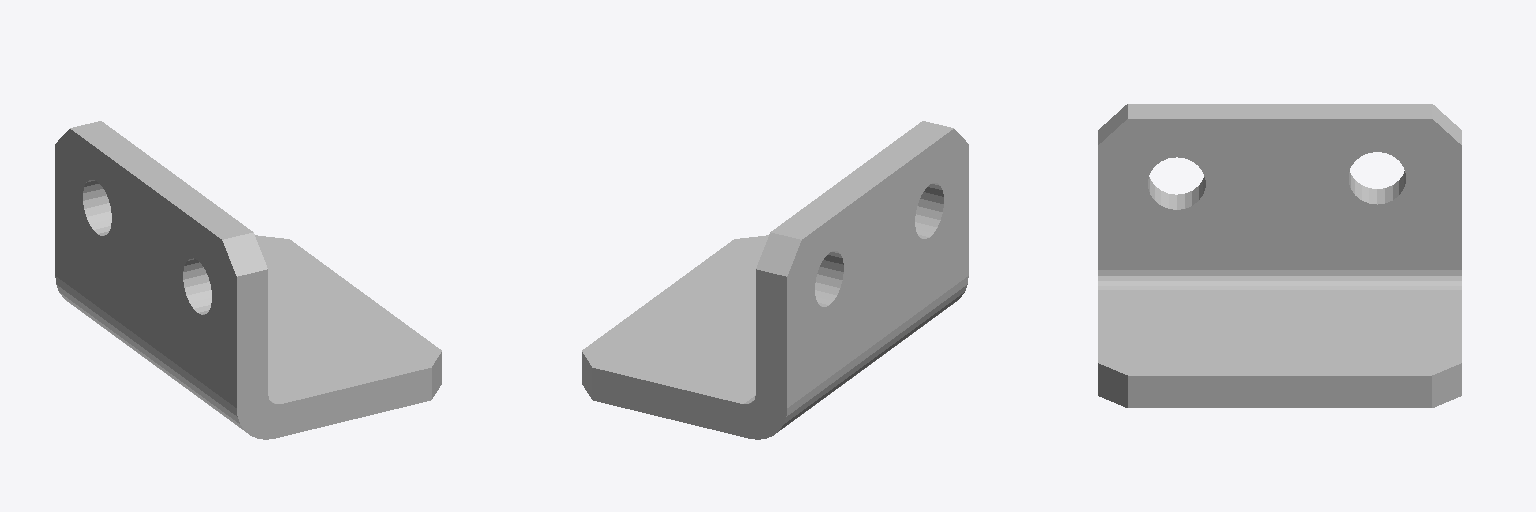
The model's file is feeder_item.obj.
3 views of the same model, side by side, from view 1: azimuth 30°, elevation 25°; view 2: azimuth 150°, elevation 25°; view 3: azimuth 270°, elevation 25° (orthographic).
Visible parts, largest first — view 1: body_1; view 2: body_1; view 3: body_1.
Part boxes in pixels (bbox=[...]): body_1: bbox=[55, 121, 441, 439]; body_1: bbox=[582, 121, 968, 439]; body_1: bbox=[1098, 104, 1461, 407].
Size of the model in its own units: 0.035 by 0.03 by 0.05.